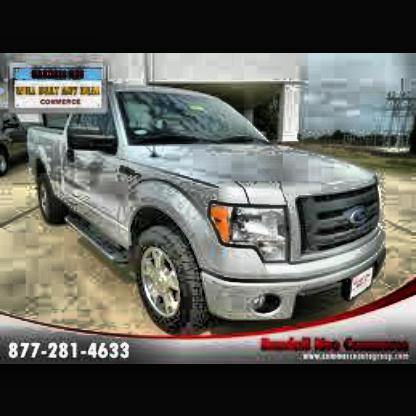Ford F-150 Regular Cab 2012: (25, 82, 394, 343)
